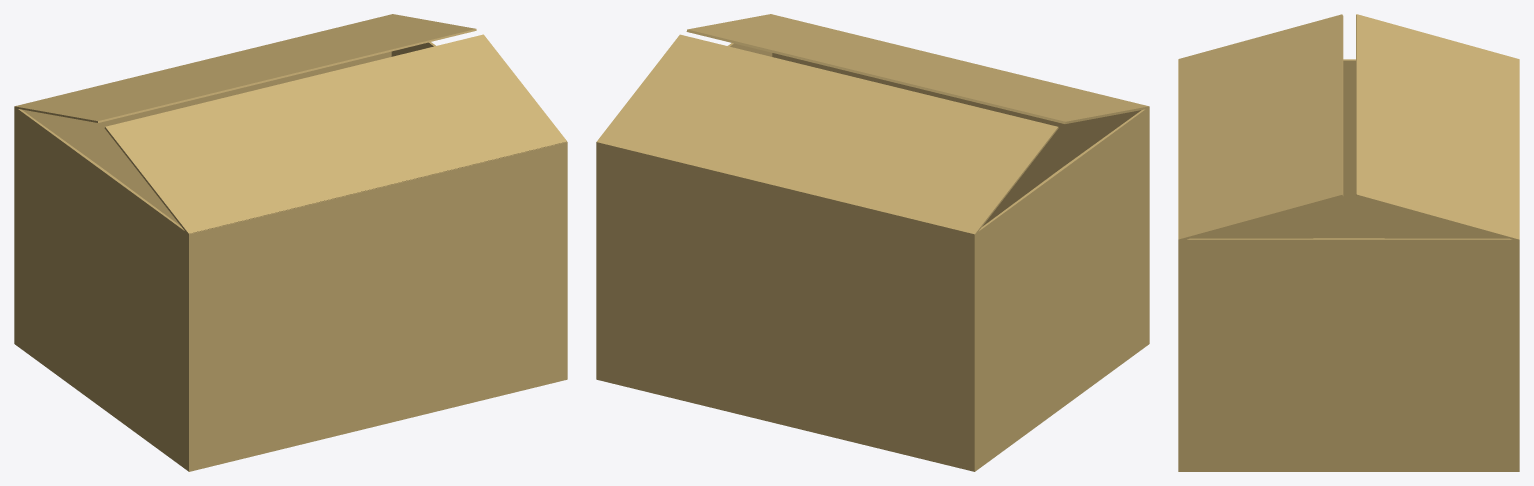
File: crate box 2.fbx
3 views of the same model, side by side, from view 1: azimuth 30°, elevation 25°; view 2: azimuth 150°, elevation 25°; view 3: azimuth 270°, elevation 25° (orthographic). The views are drawn at different scales.
Parts seen in each view (by area): view 1: box, box.001, box.003; view 2: box, box.003, box.001; view 3: box, box.001, box.003.
Part boxes in pixels (x1,y1,x2,y2): box: (14,42,567,471); box.001: (104,34,566,233); box.003: (14,14,476,122); box: (596,43,1149,471); box.003: (596,34,1058,235); box.001: (686,14,1149,123); box: (1178,59,1519,471); box.001: (1178,14,1343,240); box.003: (1356,14,1519,240).
Bounding box in the file's own units: 100 × 71.7 × 80.
